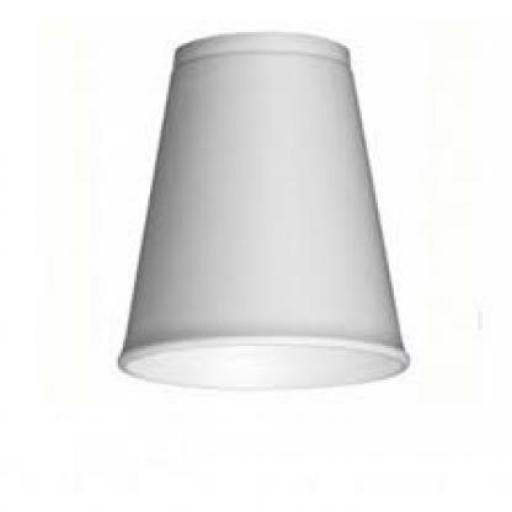paper: (119, 32, 409, 386)
